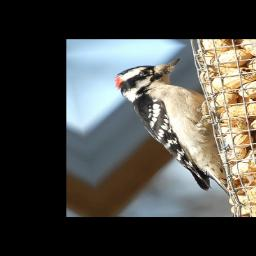Woodpecker: (110, 56, 236, 202)
